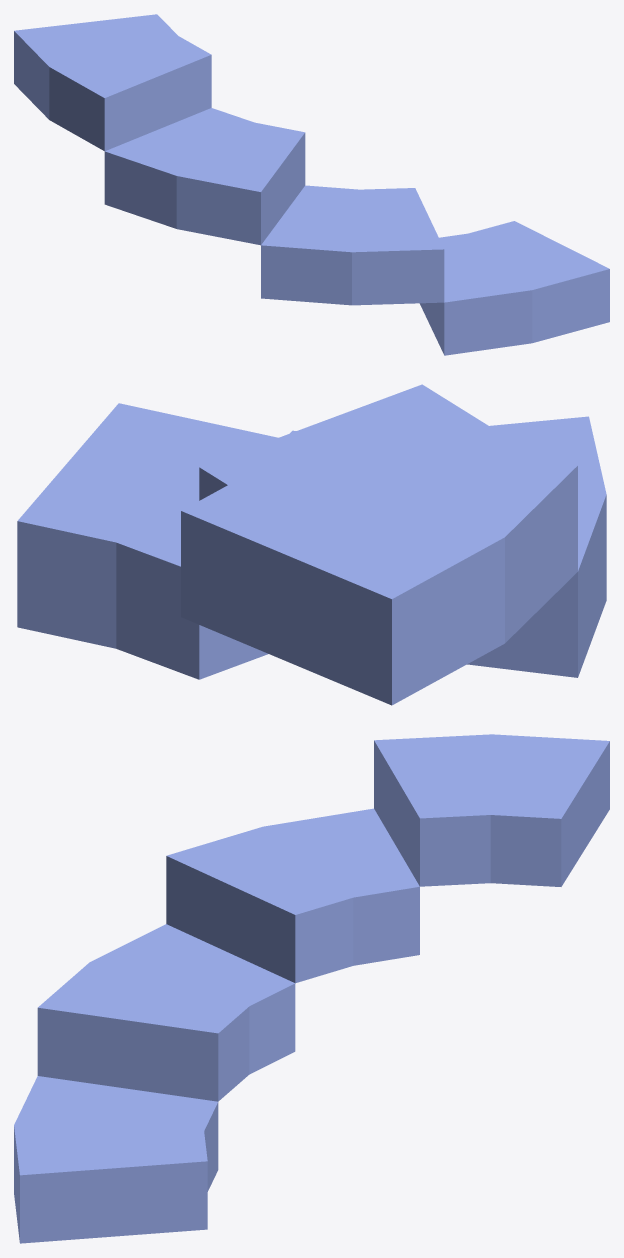
Rendered from Modelado_EscaleraMoscas_001.glb.
The picture shows the model from 3 angles, top to bottom: view 1: azimuth 30°, elevation 25°; view 2: azimuth 150°, elevation 25°; view 3: azimuth 270°, elevation 25°; orthographic projection. The views are drawn at different scales.
Parts seen in each view (by area): view 1: Modelado_Escaleras_002; view 2: Modelado_Escaleras_002; view 3: Modelado_Escaleras_002.
Part boxes in pixels (bbox=[...]): Modelado_Escaleras_002: bbox=[14, 14, 609, 355]; Modelado_Escaleras_002: bbox=[17, 384, 606, 705]; Modelado_Escaleras_002: bbox=[14, 734, 609, 1243].
Size of the model in its own units: 25.52 by 13.76 by 27.21.
1 material, 1 textured.
